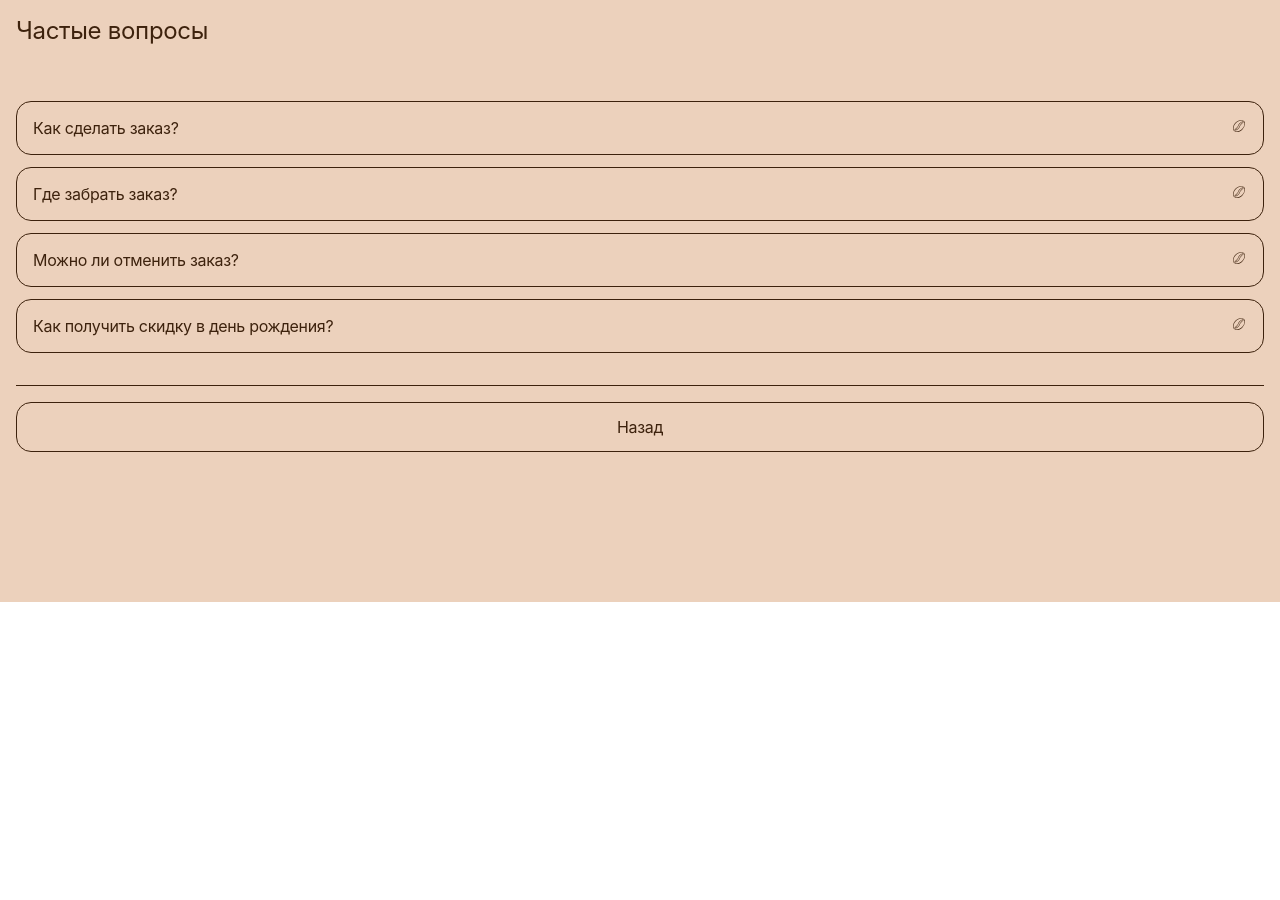
SupportFAQ component › Повторный клик на вопрос закрывает ответ
Click the text "Как сделать заказ?": click(106, 128) x1=33 y1=118 x2=178 y2=138
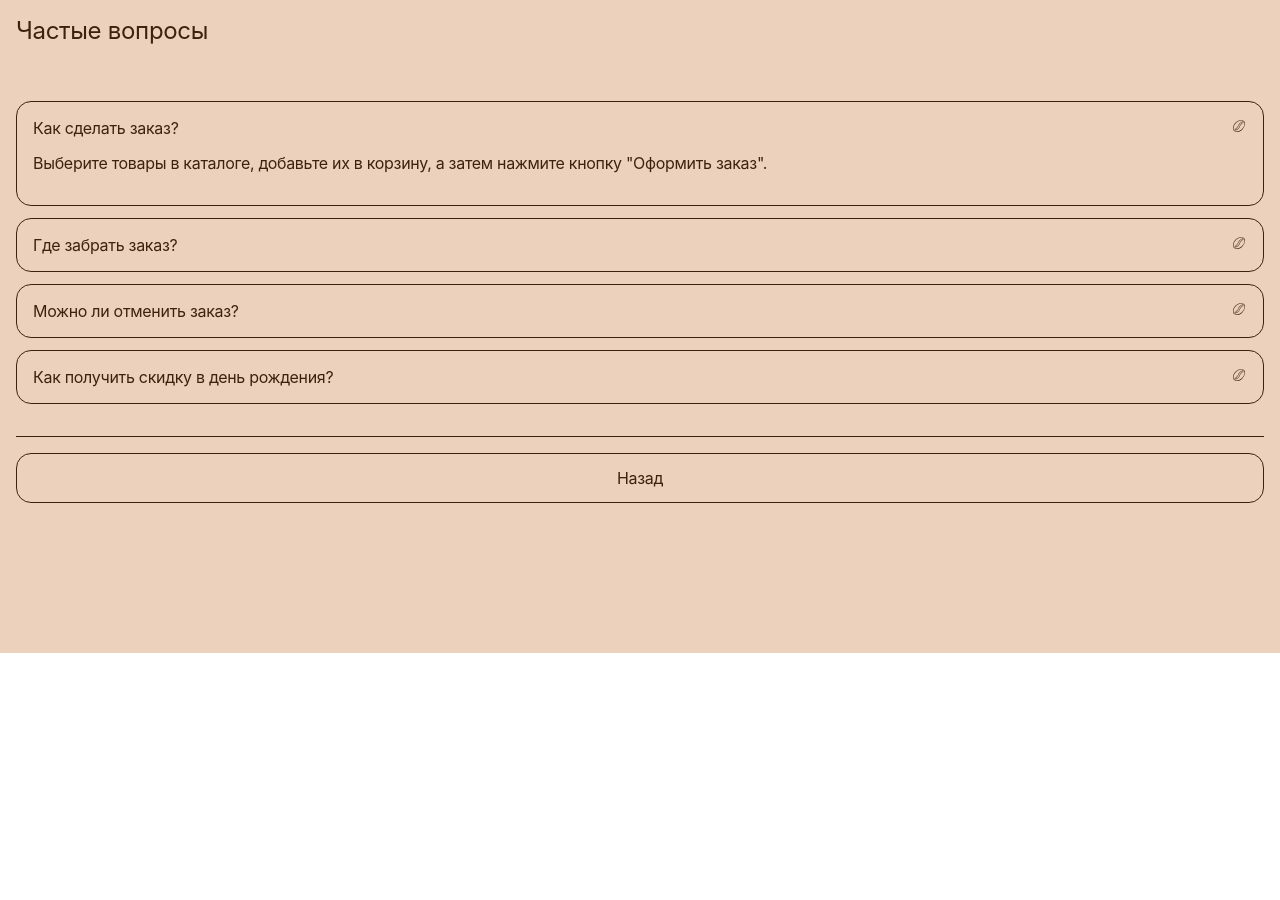
Result: the text "Выберите товары в каталоге" is shown at x1=33 y1=153 x2=767 y2=173
Click the text "Как сделать заказ?": click(106, 128) x1=33 y1=118 x2=178 y2=138
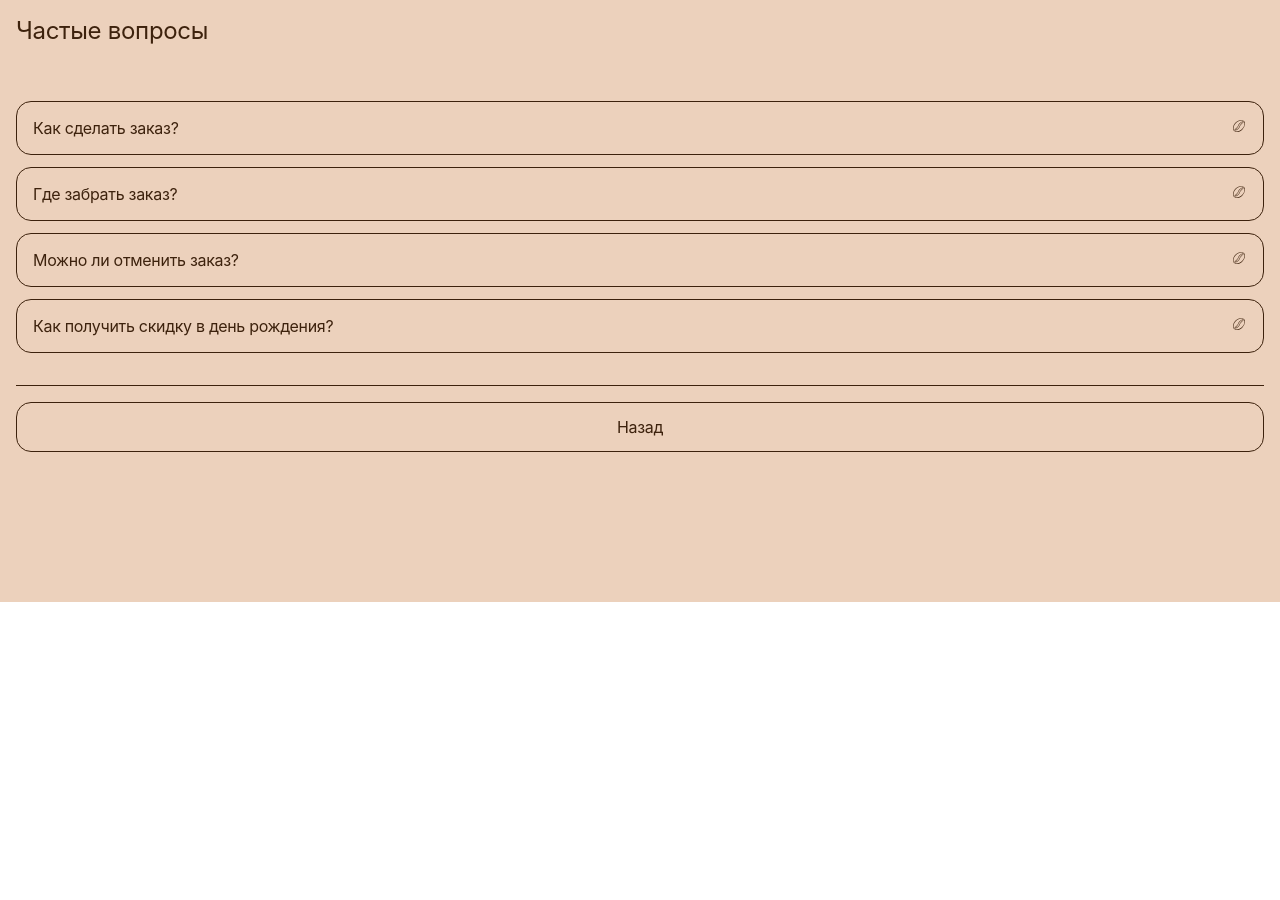
Result: the text "Выберите товары в каталоге" is gone
